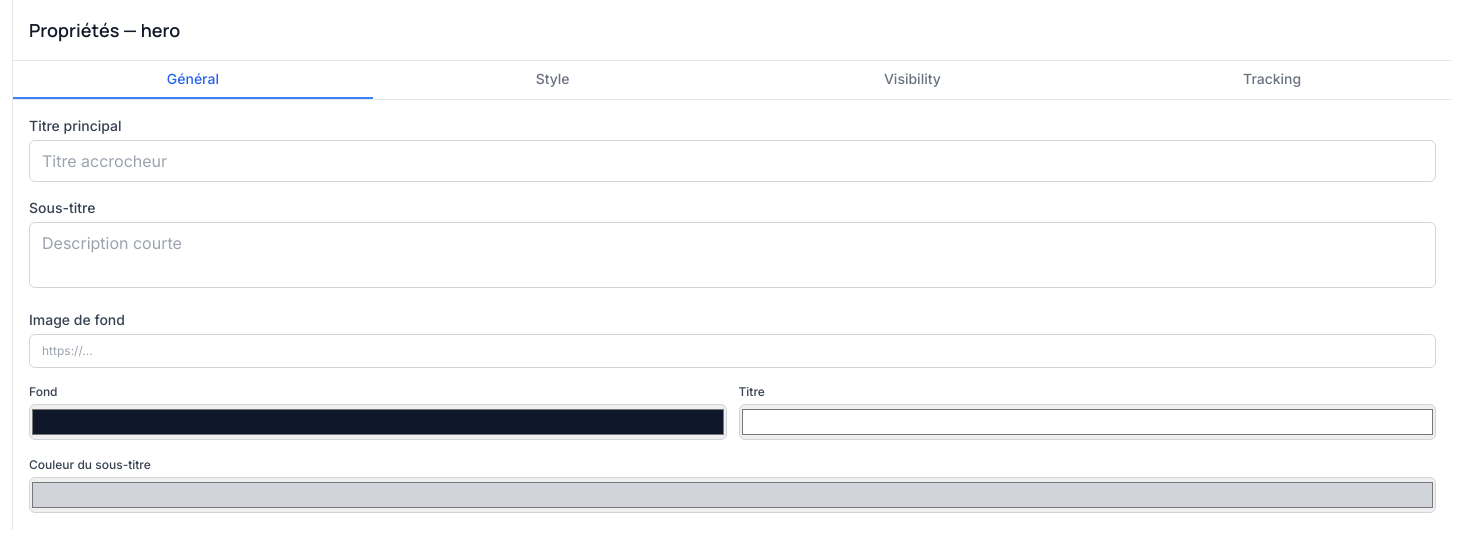
PropertiesPanel › affiche les contrôles de visibilité
Click the button "Visibility" at coordinates (912, 80), box [732,61,1092,99]
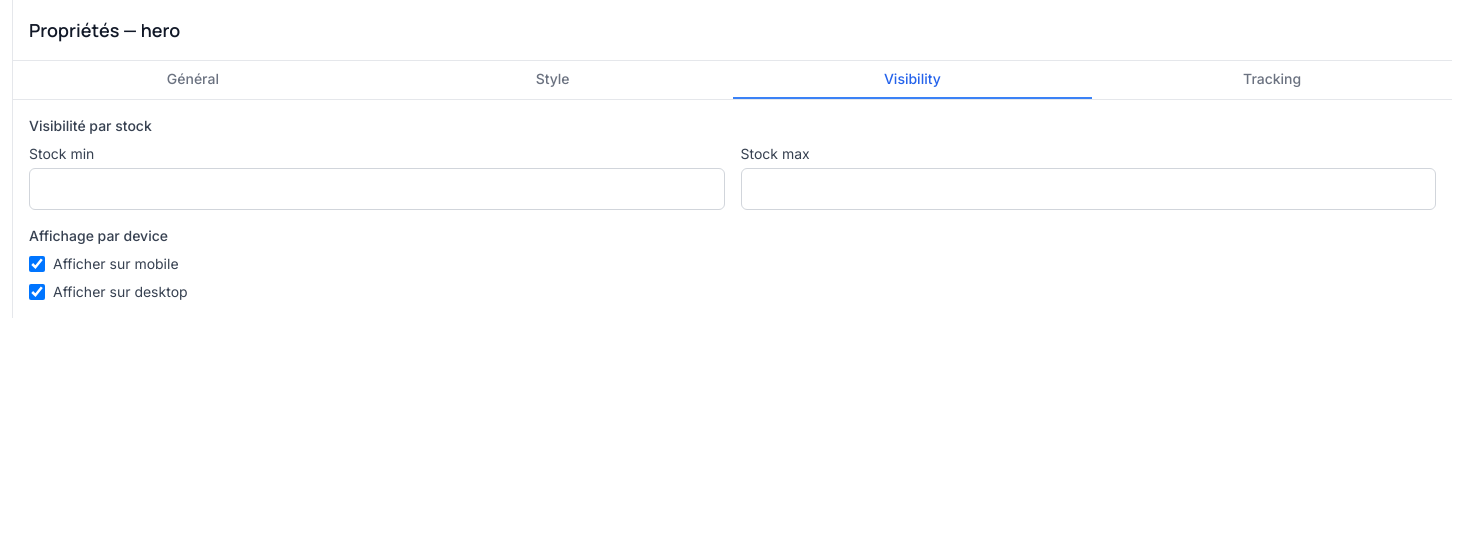
Check: the number field labelled "Stock min" is shown, box [29,168,724,210]
Check: the number field labelled "Stock max" is shown, box [740,168,1436,210]
Check: the text "Afficher sur mobile" is shown, box [53,254,179,274]
